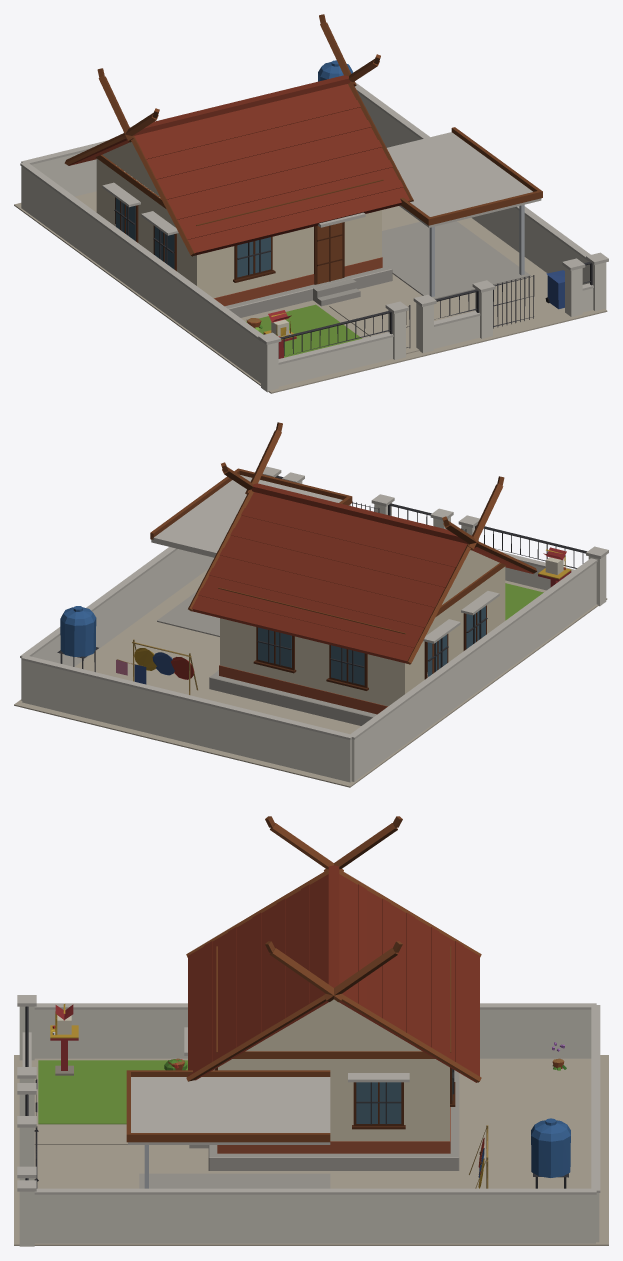
Rendered from house12_1.glb.
The picture shows the model from 3 angles, top to bottom: view 1: azimuth 30°, elevation 25°; view 2: azimuth 150°, elevation 25°; view 3: azimuth 270°, elevation 25°; orthographic projection. The views are drawn at different scales.
Parts seen in each view (by area): view 1: body, windows; view 2: body, windows; view 3: body, windows.
Boxes of the visible parts, x1,y1,x2,y2 form: body: [14, 14, 608, 393]; windows: [115, 198, 270, 277]; body: [14, 422, 608, 787]; windows: [258, 606, 485, 685]; body: [14, 816, 608, 1246]; windows: [356, 1069, 452, 1123].
Bounding box in the file's own units: 12.39 × 7.31 × 15.9.
